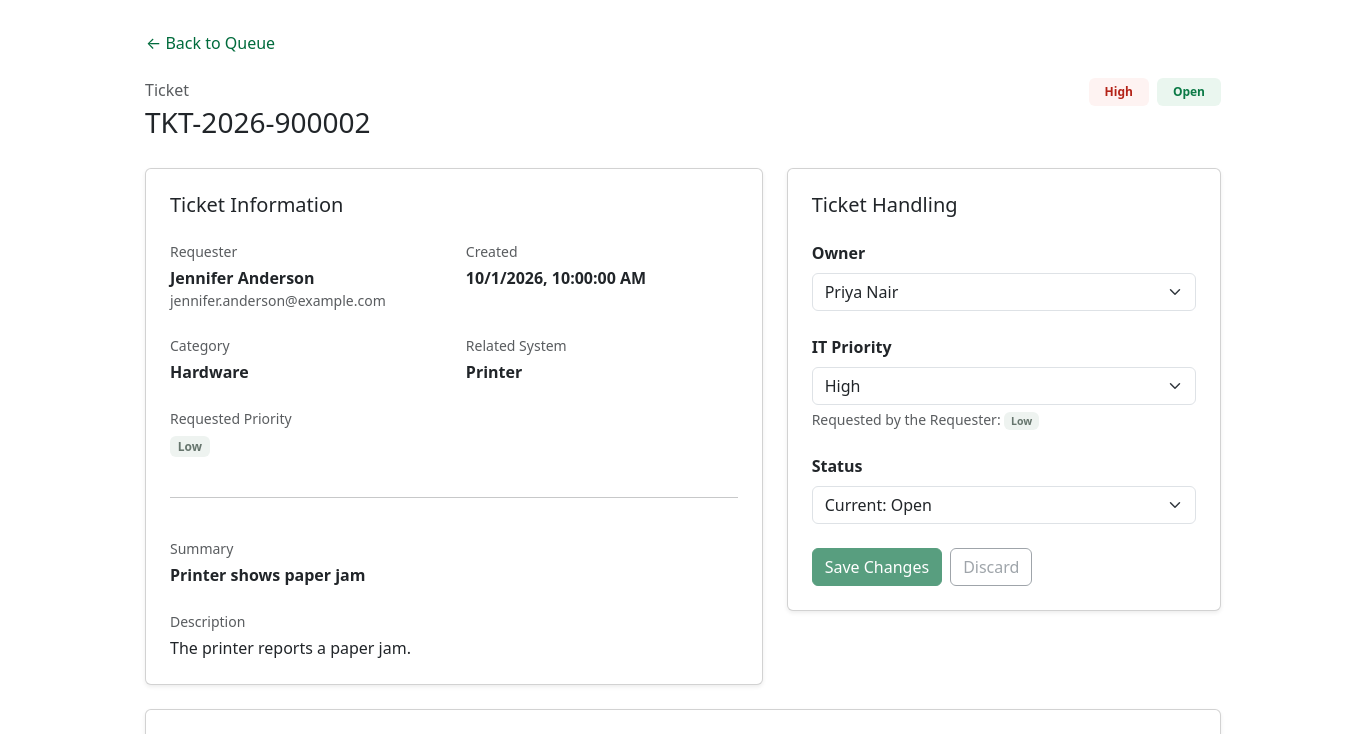
Scenario: Saving changes › Discard puts the original values back without saving
Select "Low" in the dropdown labelled "IT Priority": {"x": 1004, "y": 386} x1=812 y1=367 x2=1196 y2=405
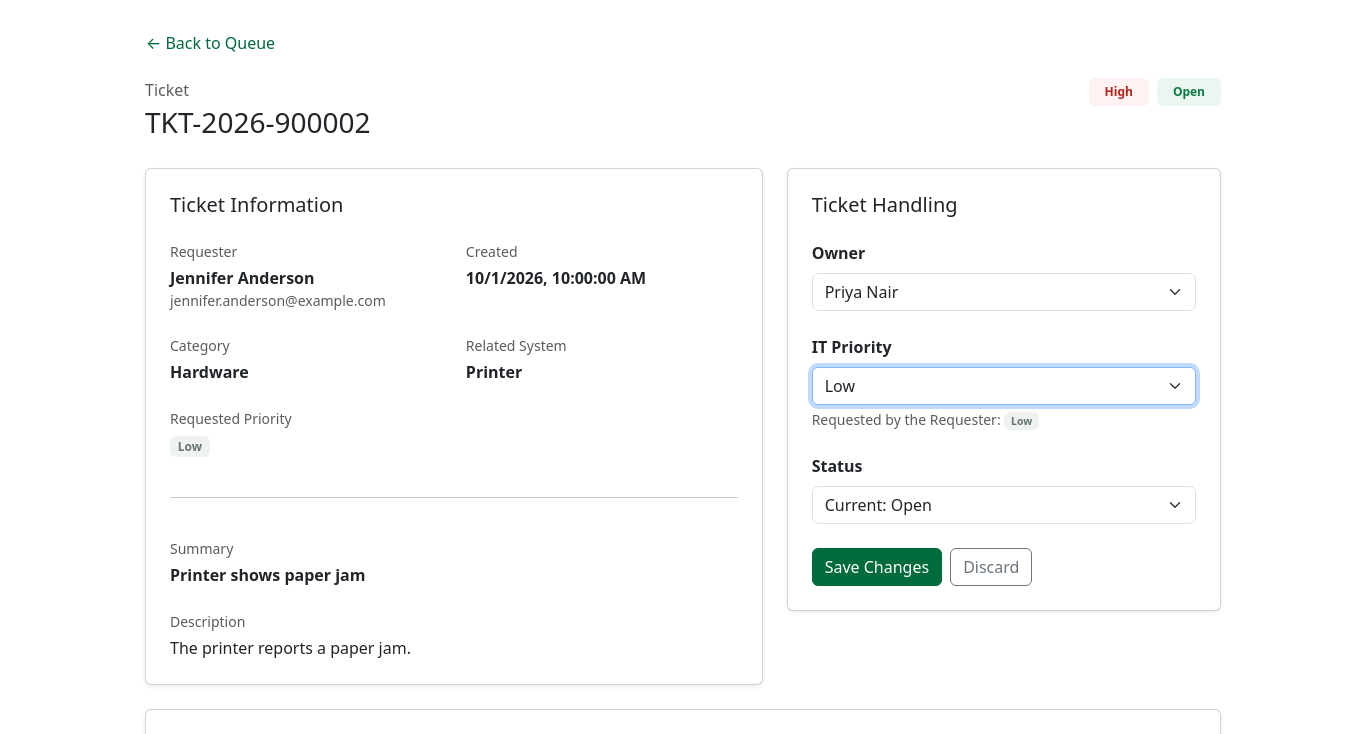
Click the button "Discard": {"x": 991, "y": 567} x1=950 y1=548 x2=1032 y2=586
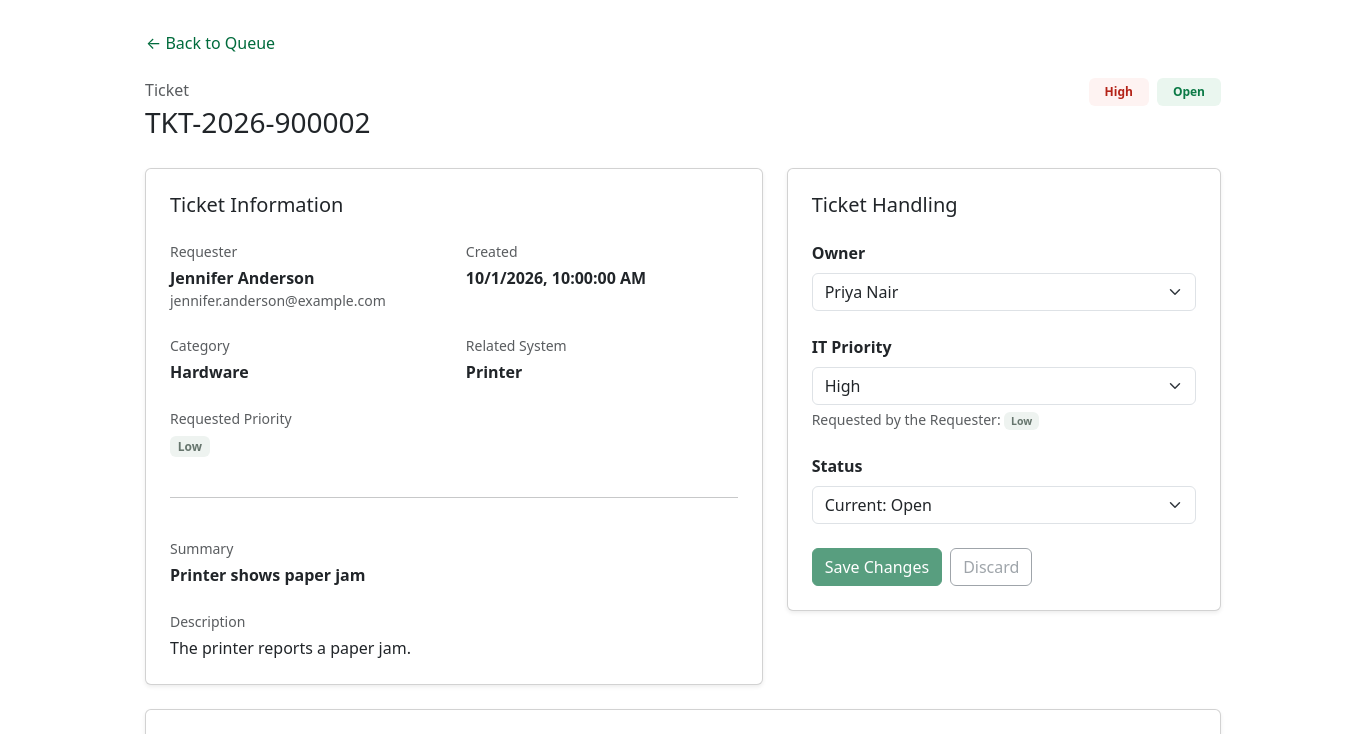
Now the button "Save Changes" is disabled, box x1=812 y1=548 x2=942 y2=586
